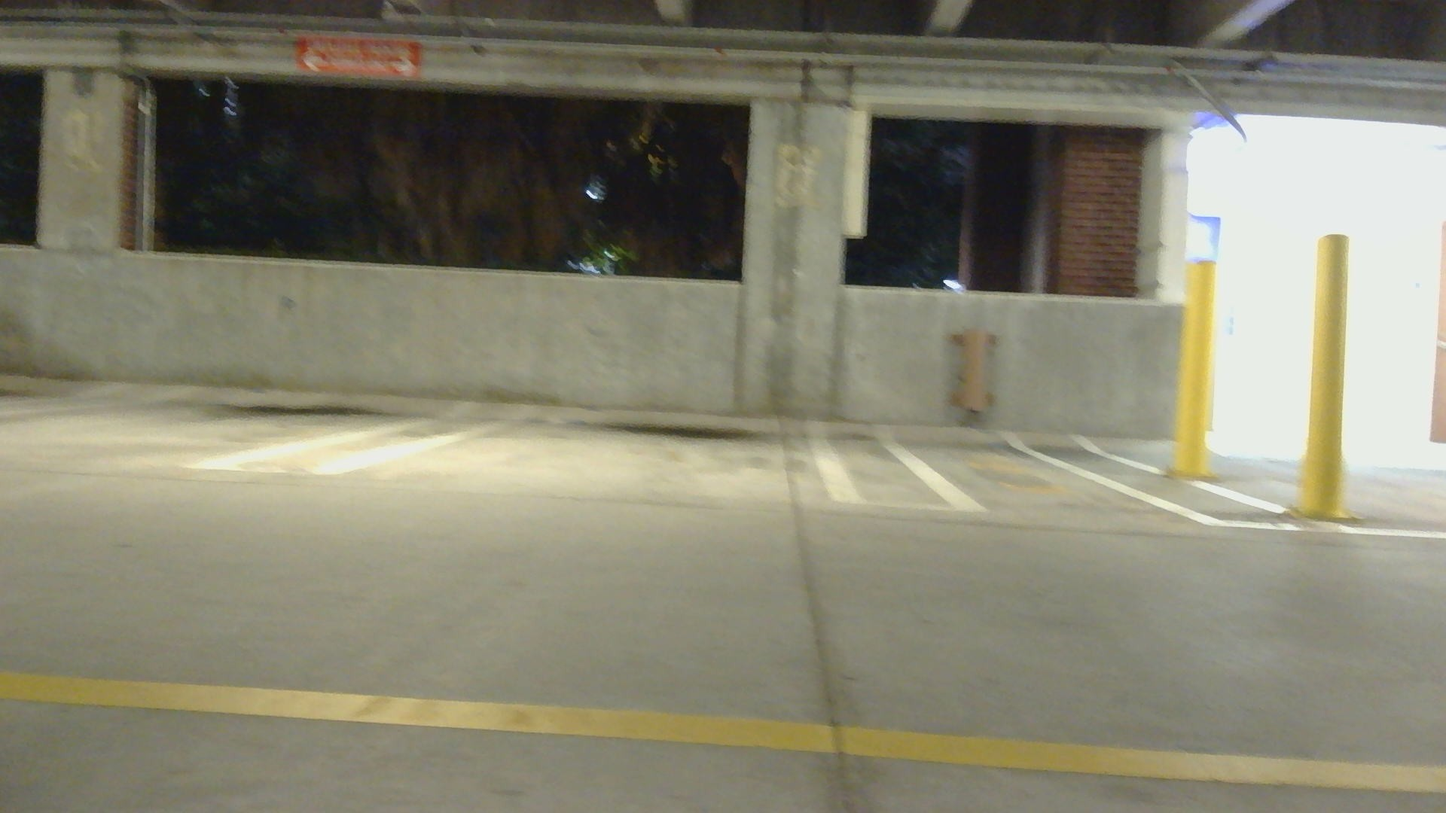empty_spot: (311, 314, 878, 507), (0, 300, 488, 480)
